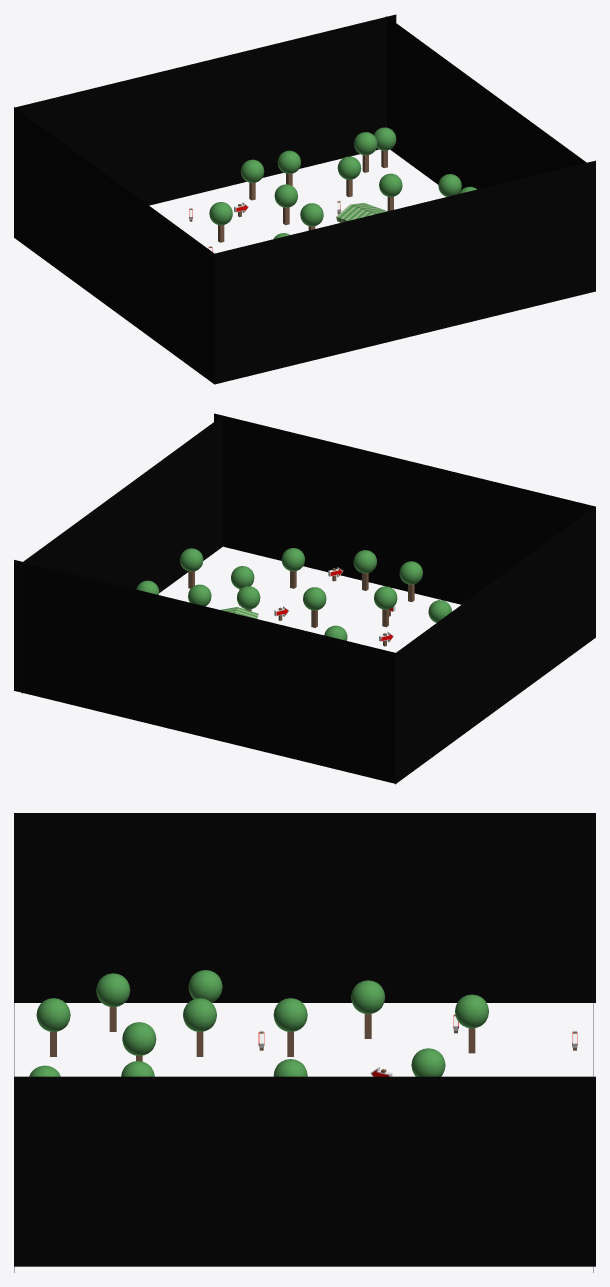
The model's file is les.gltf.
The picture shows the model from 3 angles, top to bottom: view 1: azimuth 30°, elevation 25°; view 2: azimuth 150°, elevation 25°; view 3: azimuth 270°, elevation 25°; orthographic projection. The views are drawn at different scales.
Visible parts, largest first — view 1: Part (×4); view 2: Part (×4); view 3: Part (×2), Ball (×9).
Boxes of the visible parts, x1,y1,x2,y2 form: Part (×4): (14,14,595,384); Part (×4): (14,413,595,784); Part (×2): (14,813,595,1266); Ball (×9): (36,970,488,1076).
Bounding box in the file's own units: 194 × 63.5 × 176.
